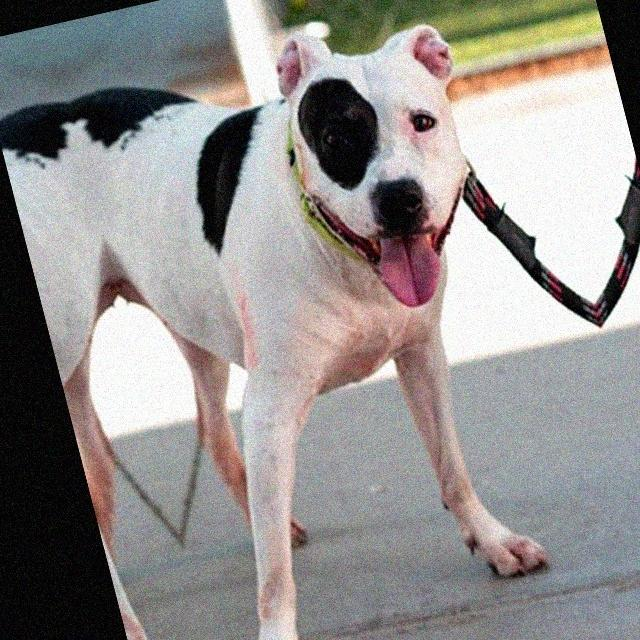dog: (56, 0, 640, 640), (0, 50, 230, 640), (504, 0, 640, 633)
